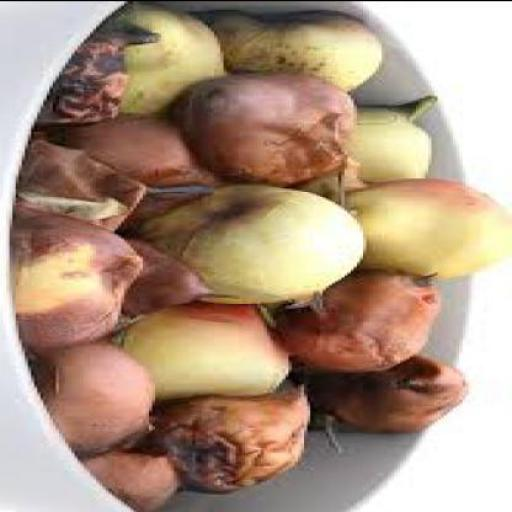biodegradable: (149, 185, 373, 313), (186, 74, 369, 192), (156, 382, 326, 494), (16, 141, 220, 234), (12, 210, 143, 348), (124, 301, 294, 407), (282, 268, 447, 374), (342, 180, 512, 282), (198, 9, 398, 92), (59, 117, 217, 219), (37, 345, 165, 459), (34, 22, 162, 128), (118, 4, 233, 117), (310, 354, 472, 434), (313, 95, 441, 191), (130, 243, 242, 319), (84, 452, 190, 510)
